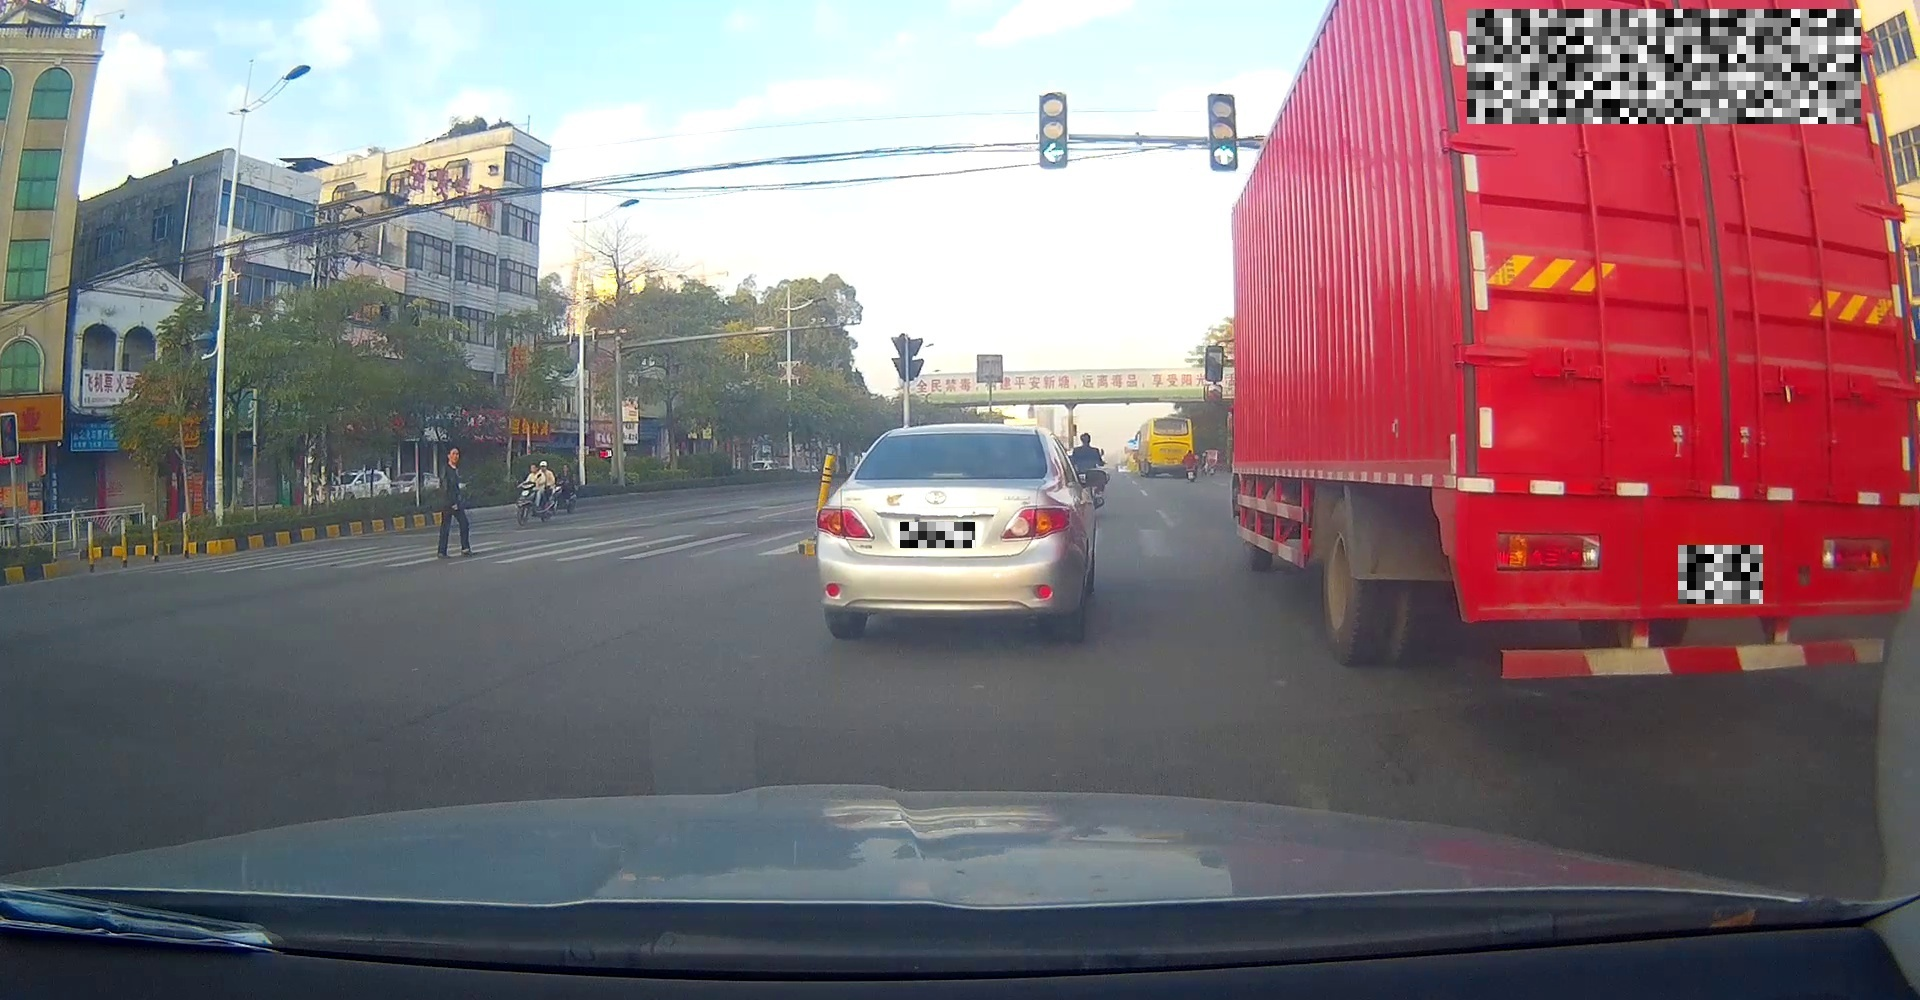L_light: (814, 508, 875, 541)
R_light: (998, 505, 1073, 541)
T_light: (932, 472, 965, 480)
day-no: (813, 423, 1078, 646)
plate_1: (900, 522, 975, 548)
plate_2: (1467, 9, 1862, 124)
plate_3: (1677, 544, 1763, 604)
